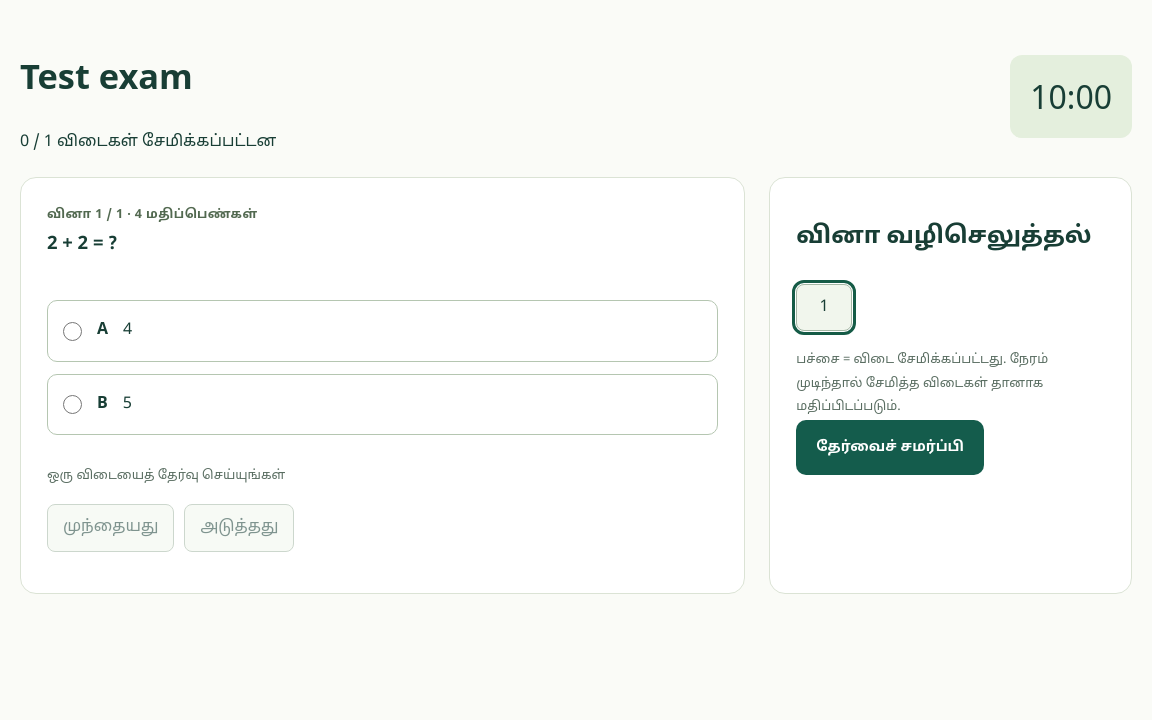
it: does not pretend an offline answer is saved
Click the radio button labelled "A 4" at point(72, 331), box [63,322,82,341]
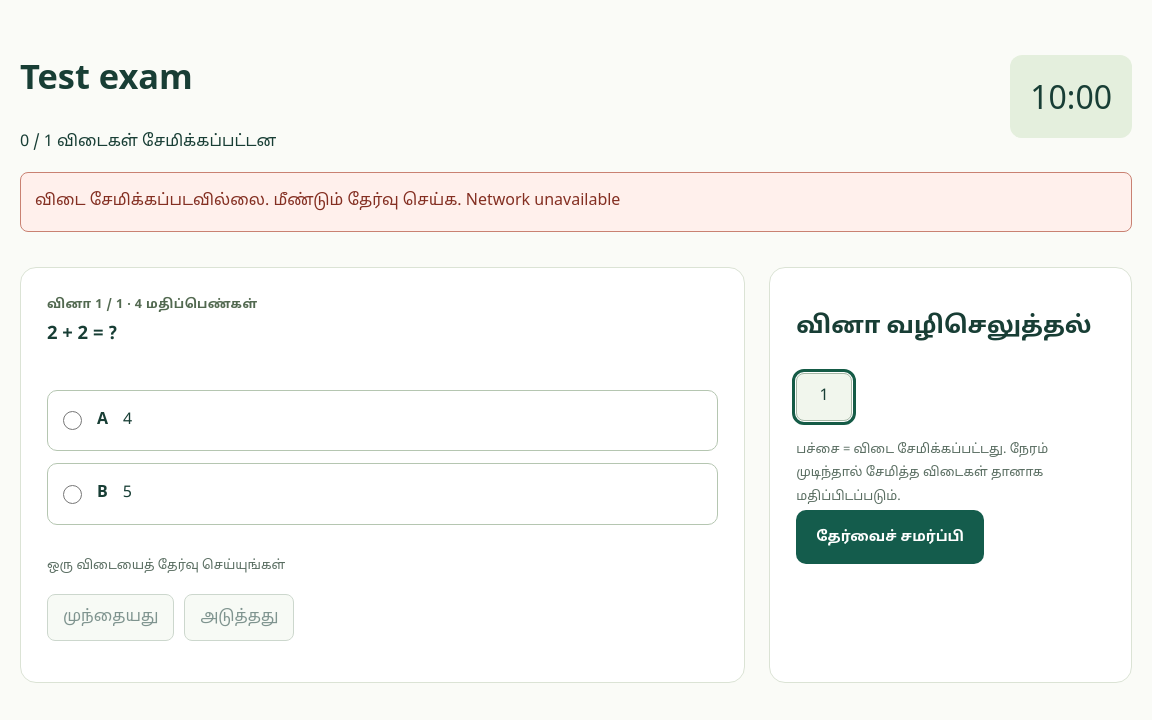
Expected: the radio button labelled "A 4" is not checked, [63,411,82,430]
Expected: the message "விடை சேமிக்கப்படவில்லை. மீண்டும் தேர்வு செய்க. Network unavailable" is shown, [20,172,1132,232]
